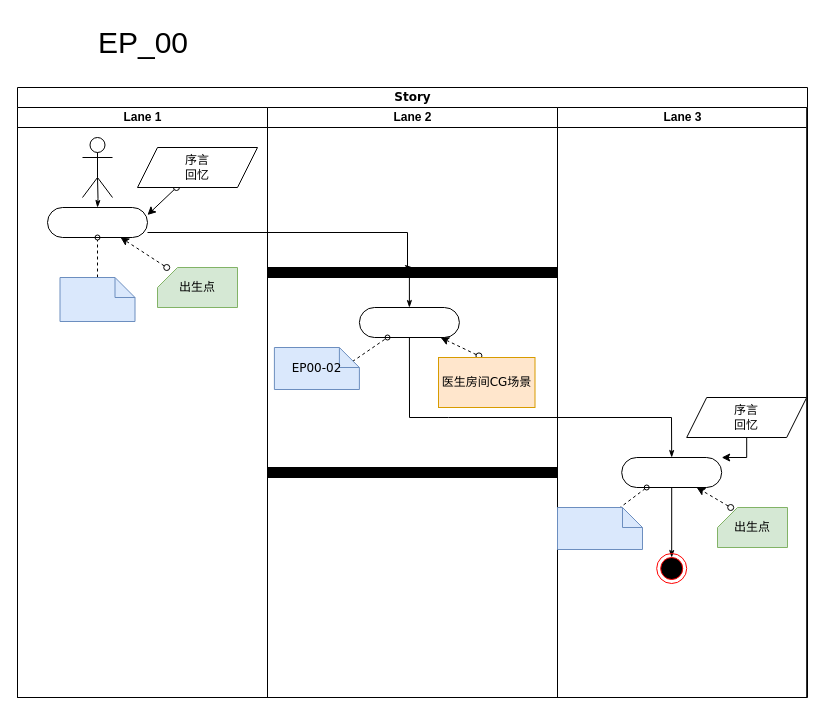
Image size: 825x715. Some labels were removed from this diagram. Here are the shapes that lost their labels. From the top down, the centre of each, then its label:
At point (97, 222): "EP00-01_0".
At point (97, 299): "EP00-01".
At point (408, 322): "EP00-02_0".
At point (671, 472): "EP00-03_0".
At point (599, 528): "EP00-03".
